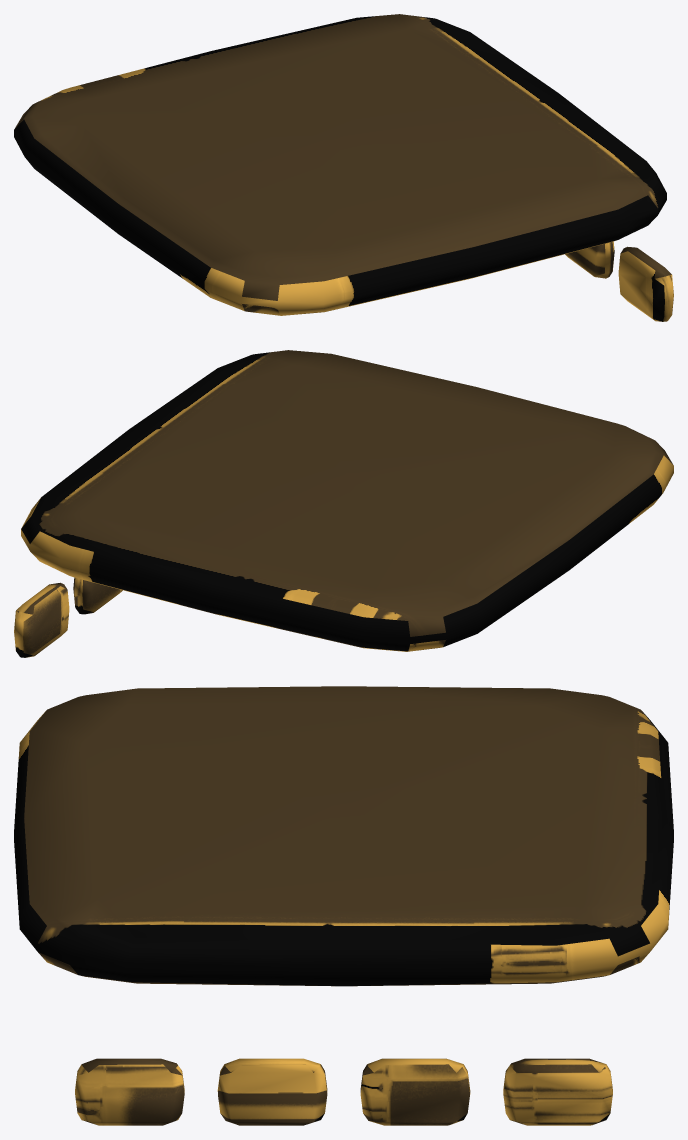
File: Centinela_GuanteIzq_Oro.fbx
3 renders of one model, top to bottom at view 1: azimuth 30°, elevation 25°; view 2: azimuth 150°, elevation 25°; view 3: azimuth 270°, elevation 25°, orthographic. The views are drawn at different scales.
Visible parts, largest first — view 1: Centinela_GuanteIzq_Oro; view 2: Centinela_GuanteIzq_Oro; view 3: Centinela_GuanteIzq_Oro.
Boxes of the visible parts, box(x1,y1,x2,y2) form: Centinela_GuanteIzq_Oro: box(14, 14, 673, 321); Centinela_GuanteIzq_Oro: box(14, 350, 673, 657); Centinela_GuanteIzq_Oro: box(14, 686, 673, 1125).
Bounding box in the file's own units: 1.14 × 0.3763 × 1.19.
